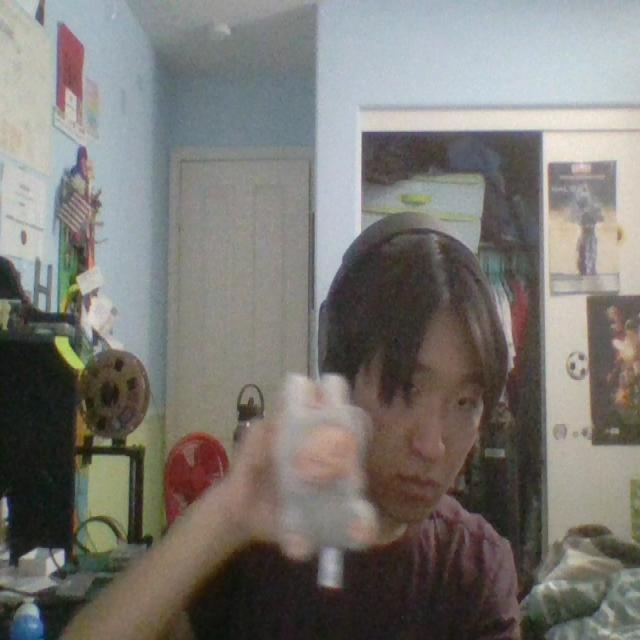labubu: (274, 373, 385, 585)
